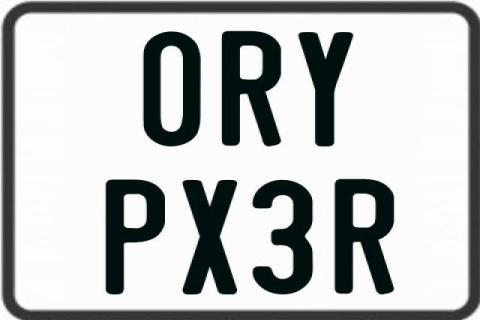0: (250, 178, 311, 296), (140, 31, 200, 147)
P: (105, 177, 164, 293)
R: (334, 177, 398, 296), (221, 30, 282, 146)
X: (181, 178, 240, 294)
Y: (296, 31, 350, 147)
